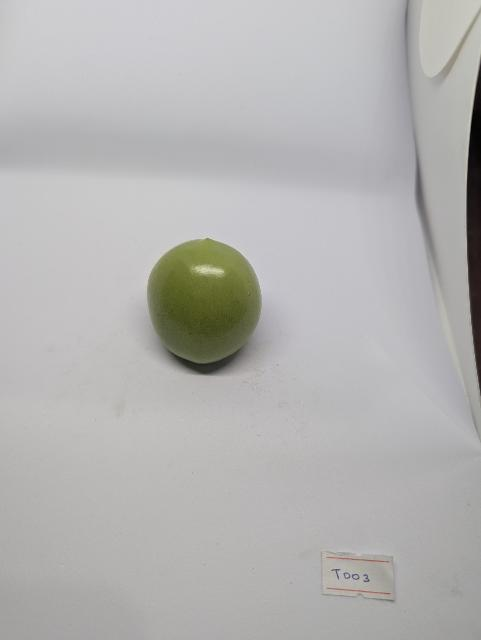green: (147, 236, 265, 367)
